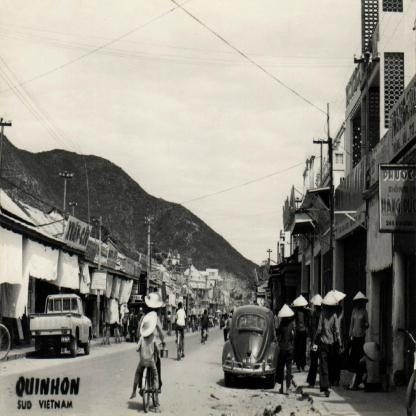Car: (215, 308, 286, 396)
